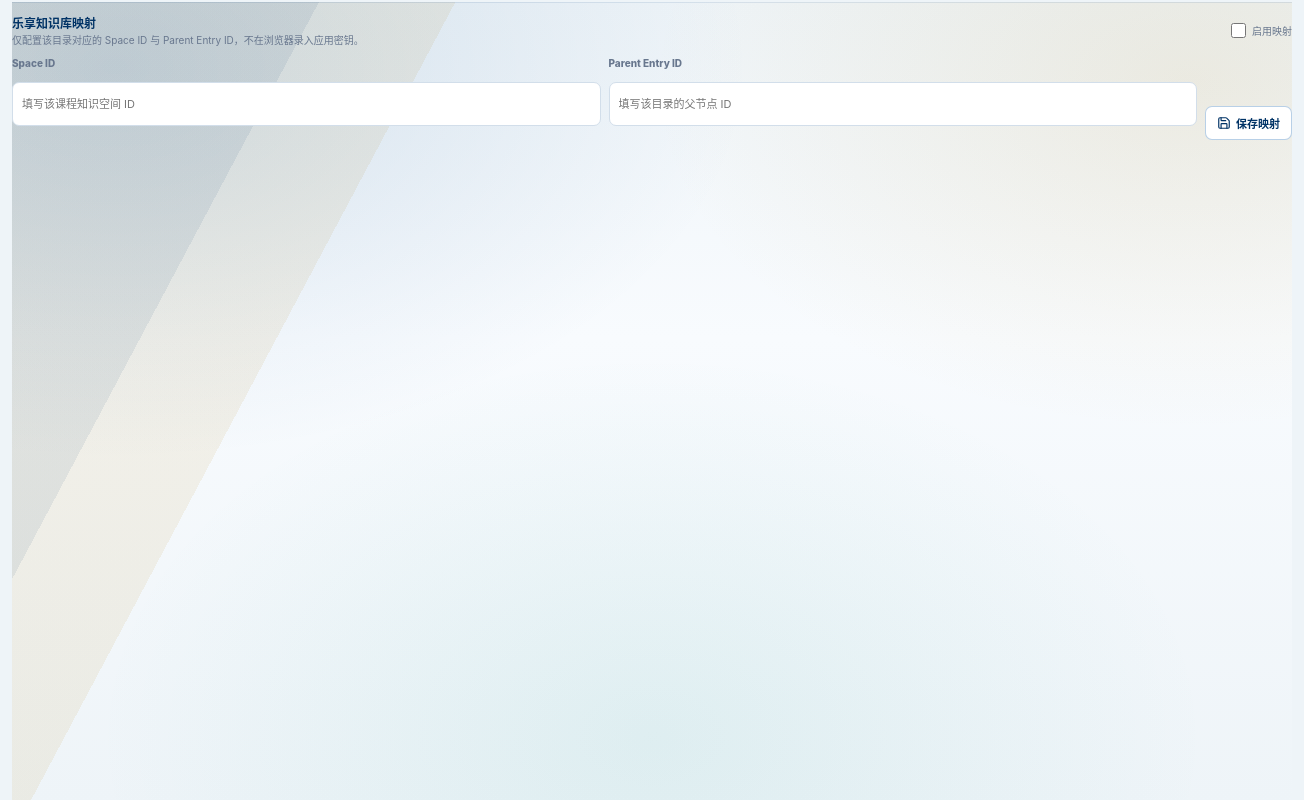
Test case: LexiangKnowledgeMappingEditor › 保存映射时要求两个目录标识完整
Click the button "保存映射".
click(1248, 122)  # box [1205,106,1292,140]
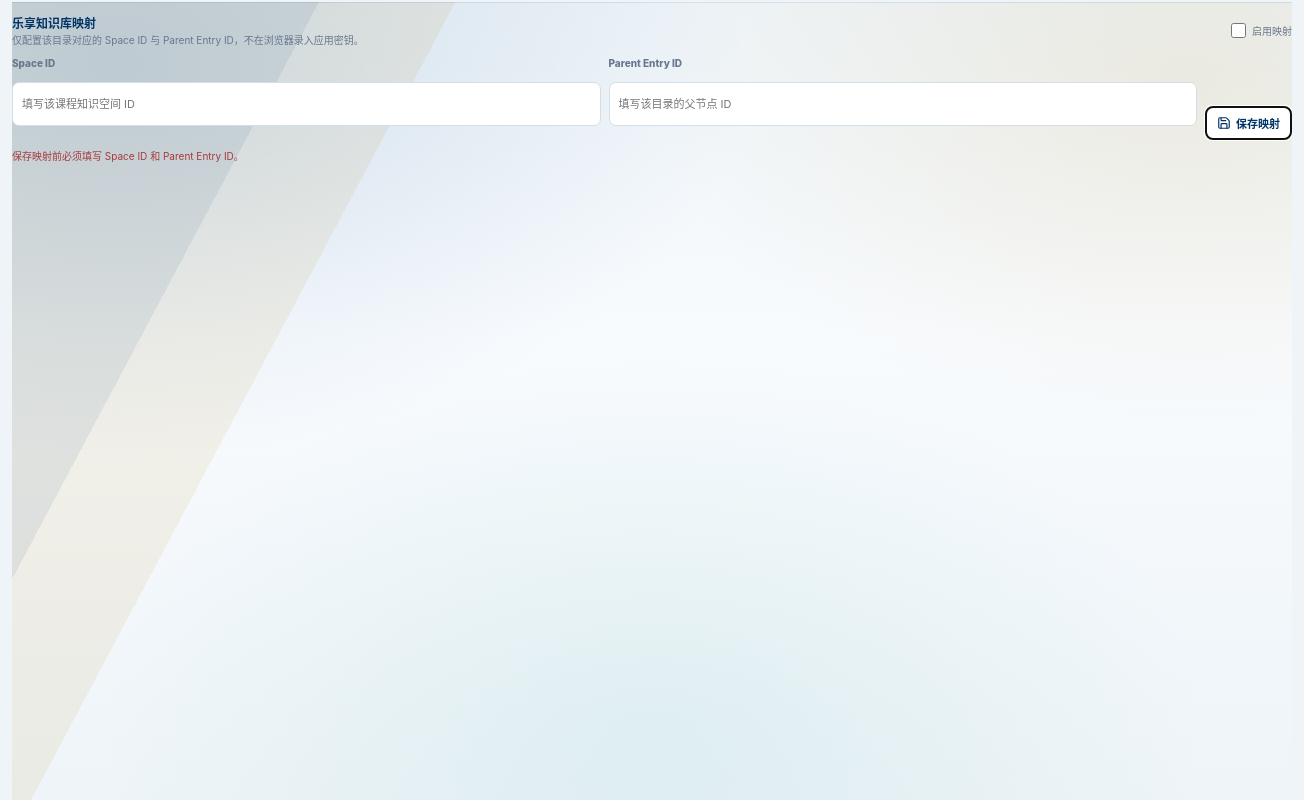
expect the message shows "必须填写 Space ID 和 Parent Entry ID": met, box [12,150,244,162]
